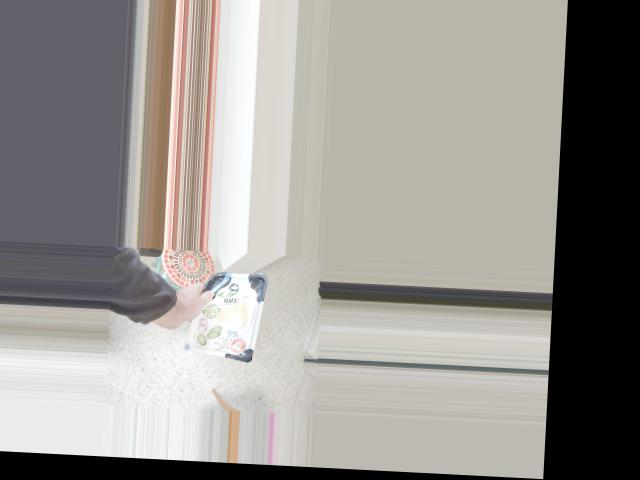cheese: (171, 285, 244, 359)
